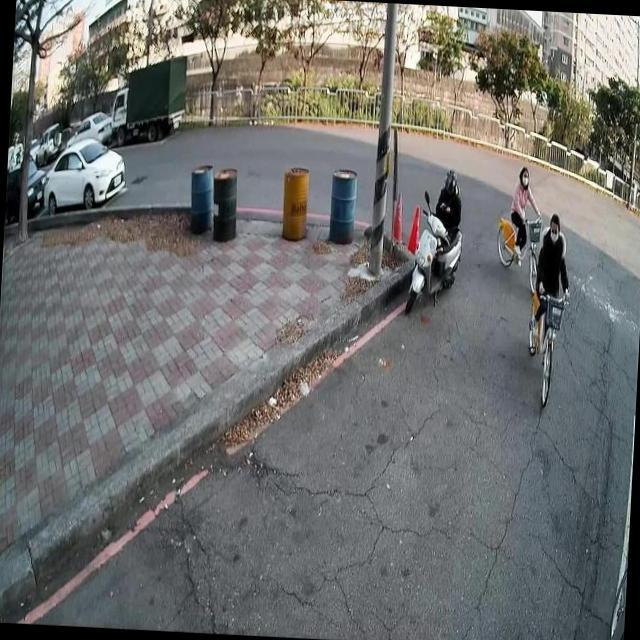person: (528, 209, 576, 359), (506, 160, 544, 264), (428, 162, 463, 266)
